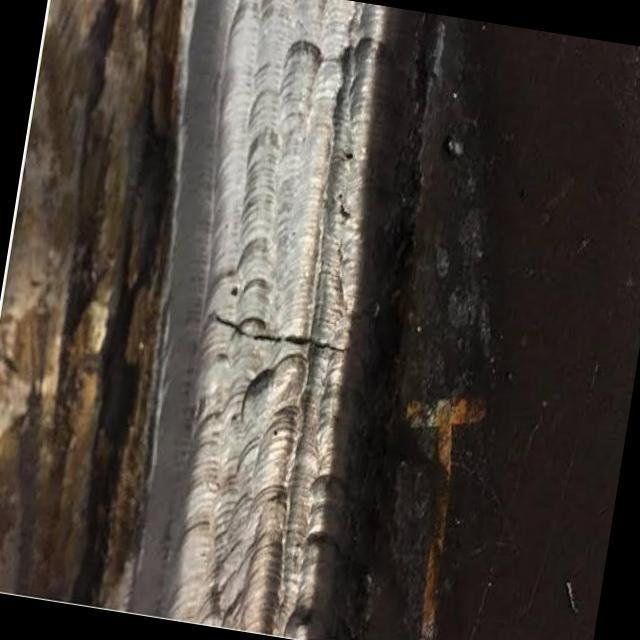defect: (212, 313, 352, 358)
